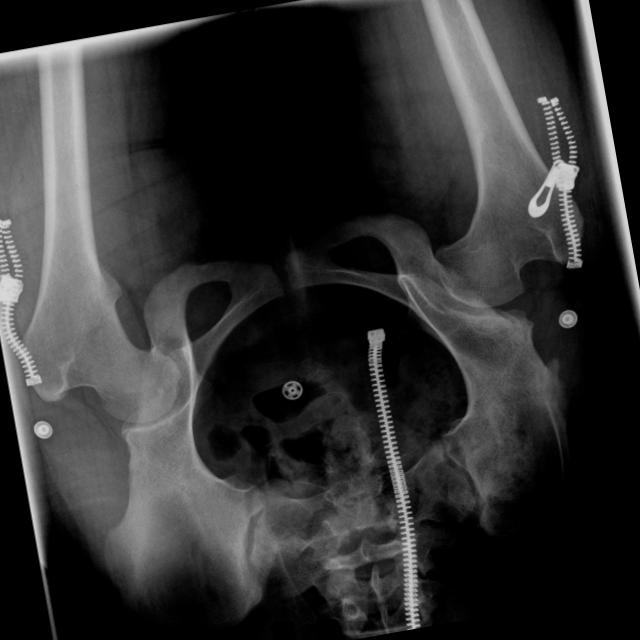normal-left: (20, 140, 178, 422)
normal-right: (435, 59, 582, 305)
